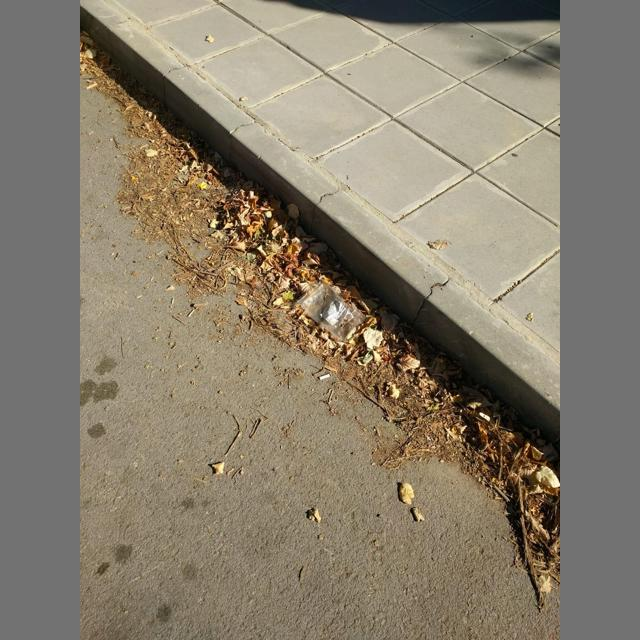litter: (298, 278, 365, 341), (319, 372, 330, 381)
